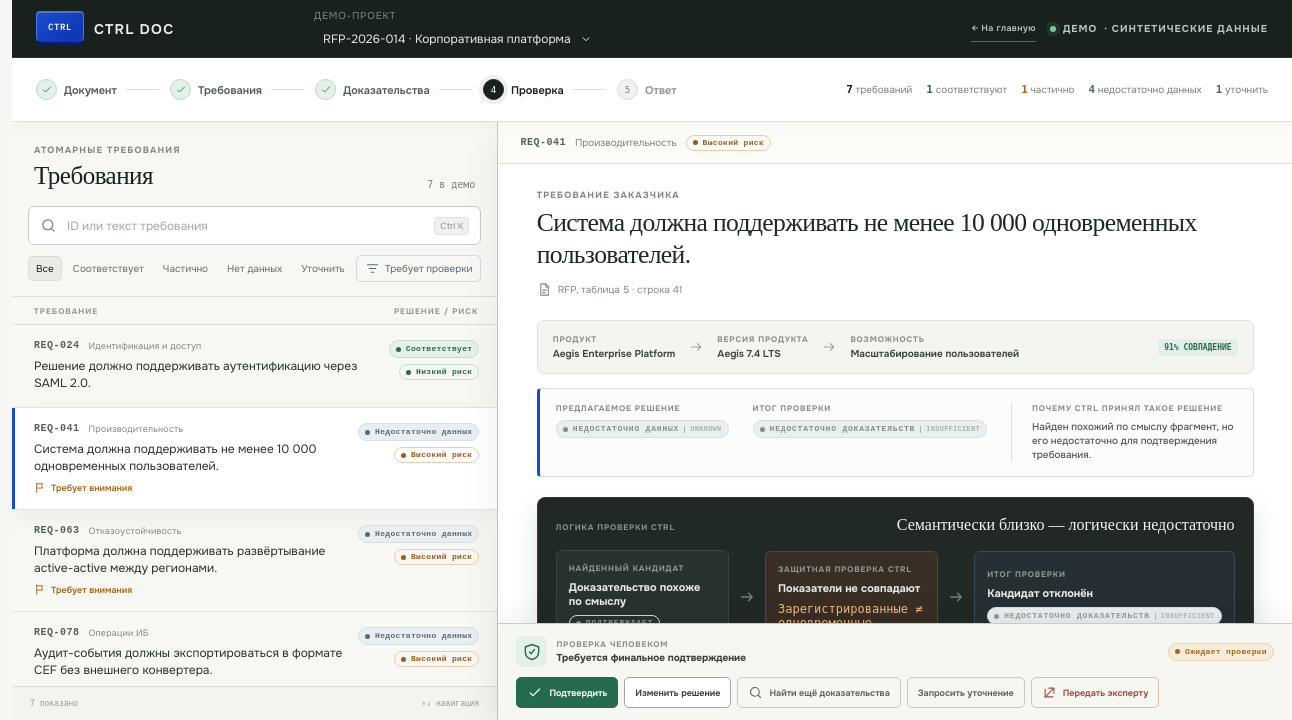
Test: CTRL Intelligence Workbench › filters the list by proposed decision
This screenshot has width=1292, height=720.
Click the button "Частично": (185, 268) x1=155 y1=256 x2=216 y2=281
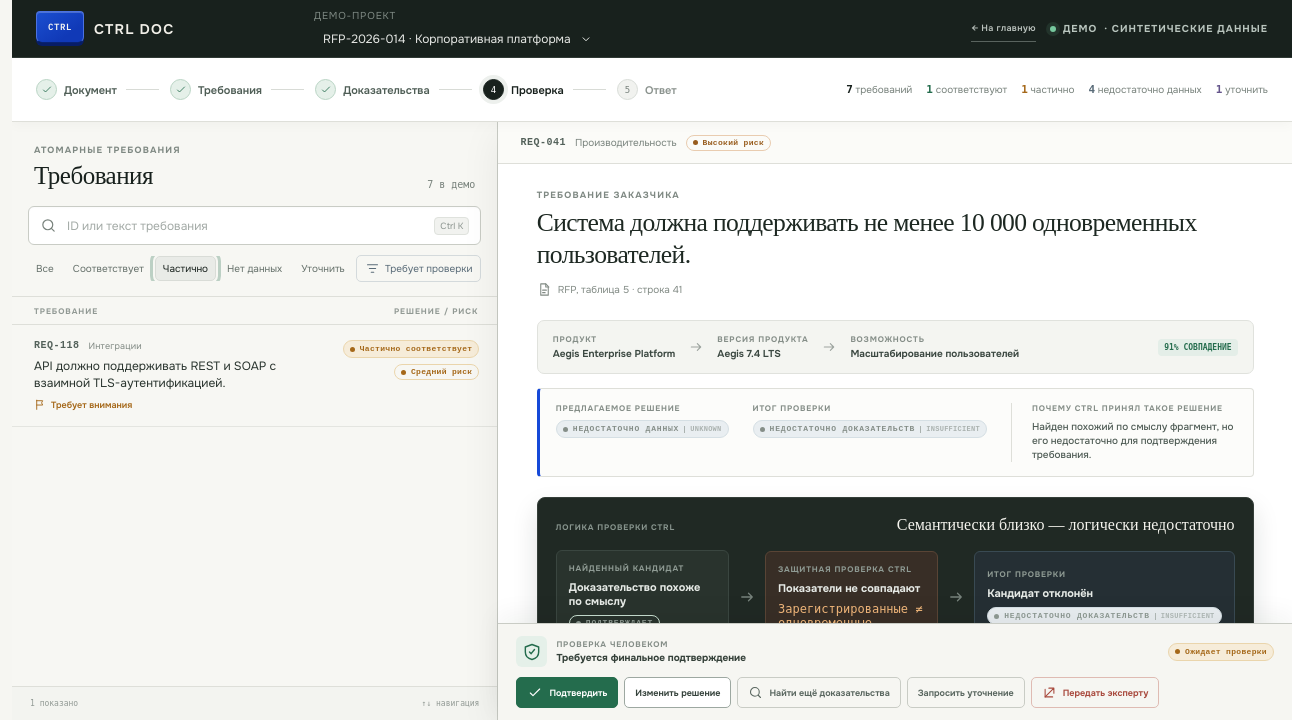
Expected: the text "1 показано" is shown, x1=30 y1=699 x2=78 y2=708
Expected: the text "REQ-118" is shown, x1=34 y1=340 x2=80 y2=352
